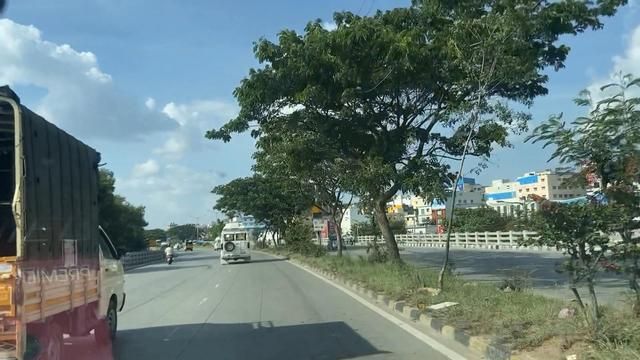HMV: (4, 111, 122, 360), (221, 222, 249, 261)
